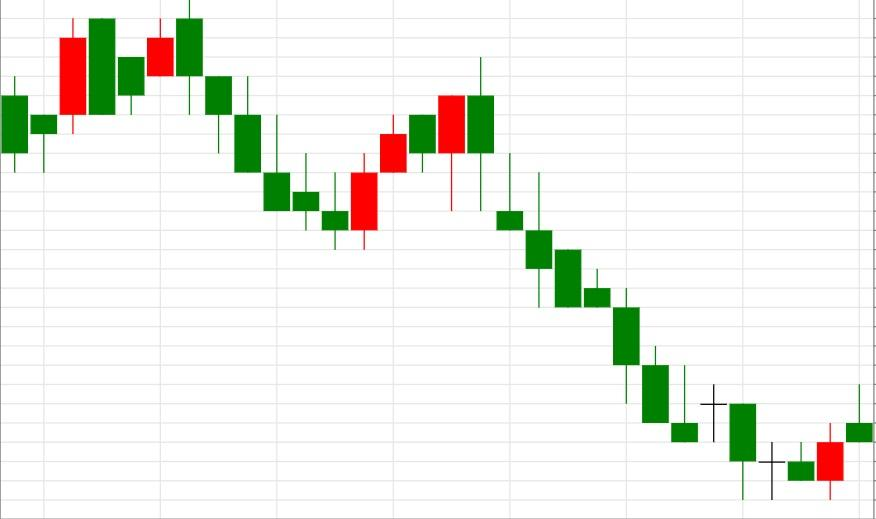bearish_engulfing_fall: (0, 0, 204, 173), (321, 56, 495, 249)
bullish_engulfing_rise: (176, 0, 379, 250), (699, 384, 845, 501)
inverse_hammer_rise: (467, 56, 699, 443)
